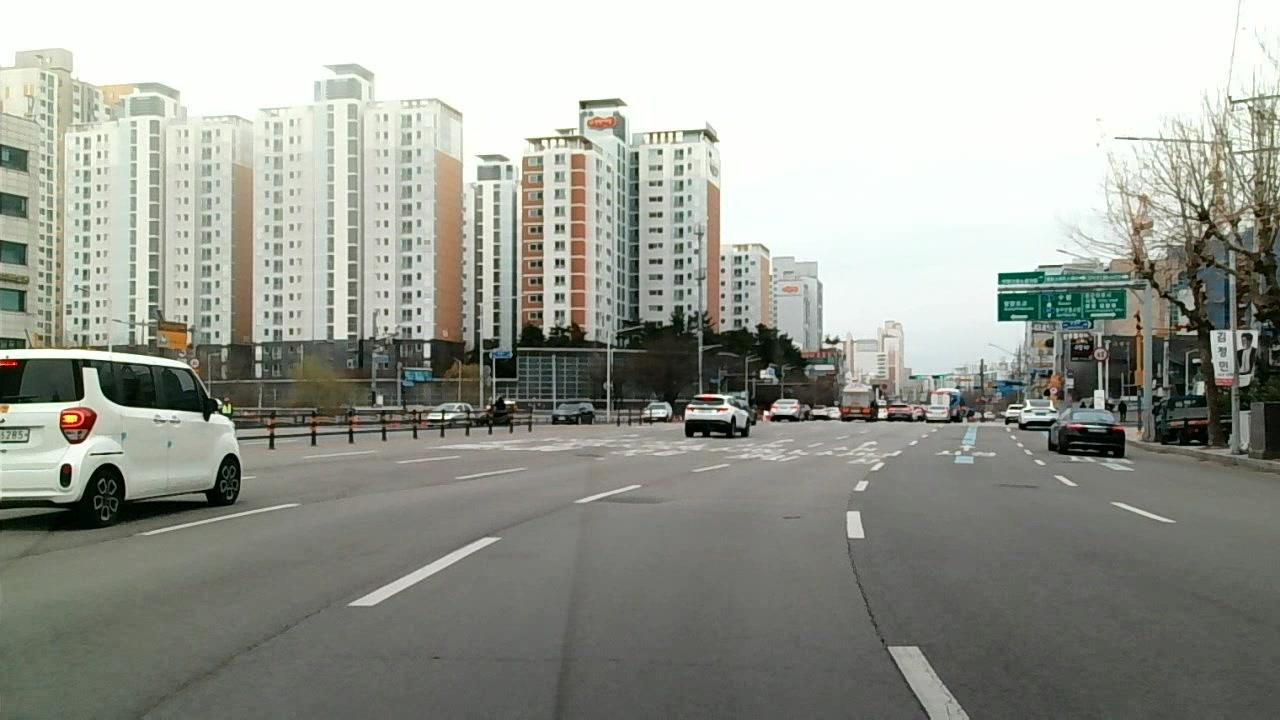hcrack: (385, 652, 629, 666)
vcrack: (127, 606, 331, 720), (842, 538, 885, 648), (25, 529, 129, 558)
